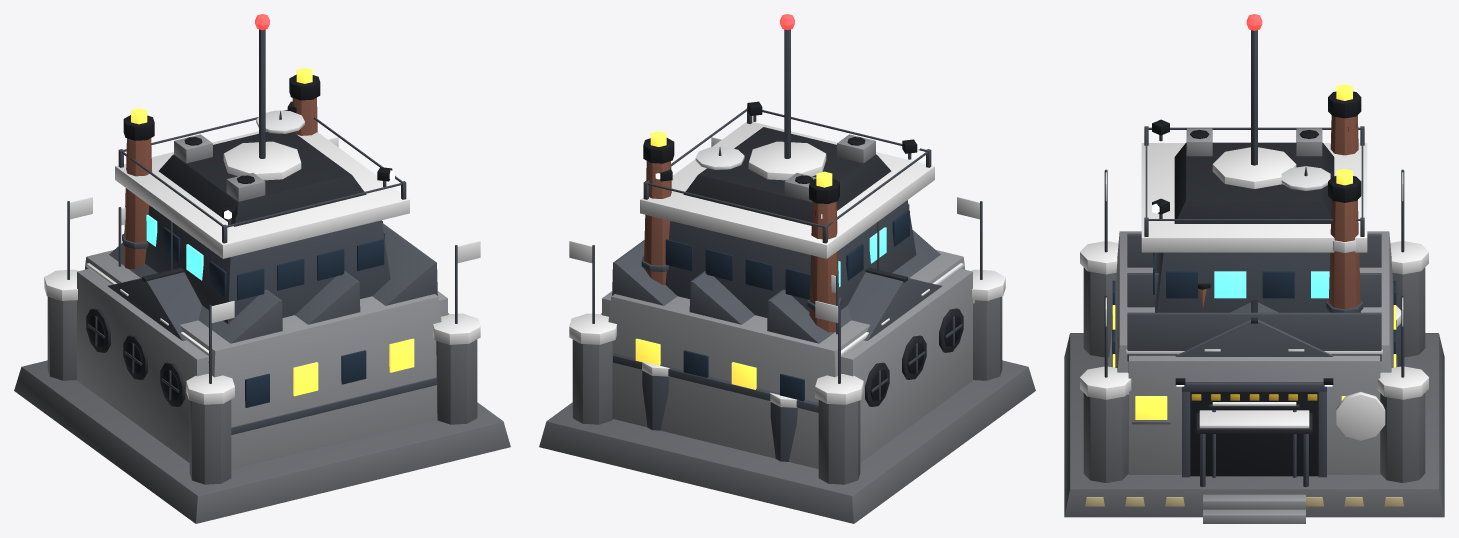
The model's file is structures.glb.
The picture shows the model from 3 angles, left to right: view 1: azimuth 30°, elevation 25°; view 2: azimuth 150°, elevation 25°; view 3: azimuth 270°, elevation 25°; orthographic projection. The views are drawn at different scales.
Parts seen in each view (by area): view 1: hq, factory, barracks; view 2: hq, factory, barracks, lab; view 3: hq, factory, barracks.
Part boxes in pixels (x1,y1,x2,y2): hq: (14, 14, 510, 523); factory: (77, 68, 447, 462); barracks: (108, 207, 382, 340); hq: (539, 14, 1035, 523); factory: (602, 131, 974, 462); barracks: (831, 221, 941, 340); lab: (642, 362, 797, 461); hq: (1064, 14, 1444, 523); factory: (1112, 84, 1396, 477); barracks: (1175, 283, 1333, 477).
Size of the model in its own units: 12.6 by 14.48 by 11.8.
